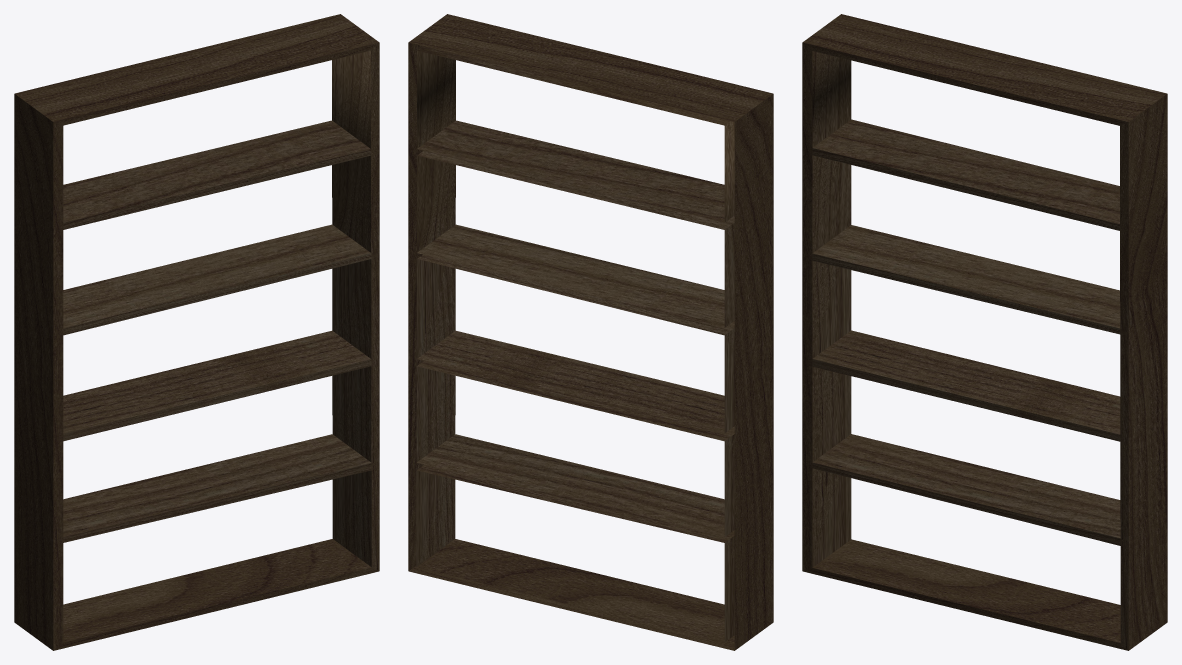
File: BookShelf.fbx
3 renders of one model, left to right at view 1: azimuth 30°, elevation 25°; view 2: azimuth 150°, elevation 25°; view 3: azimuth 330°, elevation 25°, orthographic.
Visible parts, largest first — view 1: bookShelf; view 2: bookShelf; view 3: bookShelf.
Part boxes in pixels (x1,y1,x2,y2): bookShelf: [14, 14, 379, 650]; bookShelf: [408, 14, 773, 650]; bookShelf: [802, 14, 1167, 650].
Bounding box in the file's own units: 19.59 × 30.34 × 4.05.
